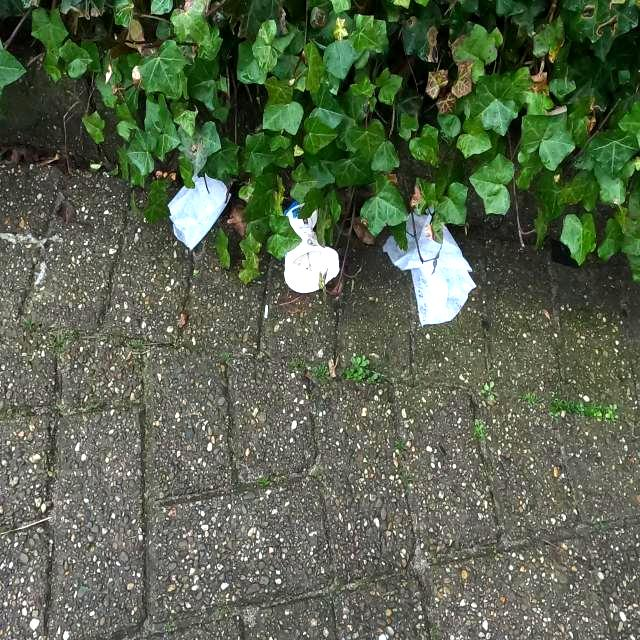Coffee Cup: (282, 199, 342, 295)
Paper: (381, 205, 477, 329), (165, 172, 232, 252)
